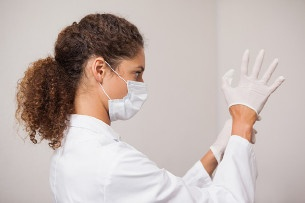Mask: (98, 57, 159, 119)
